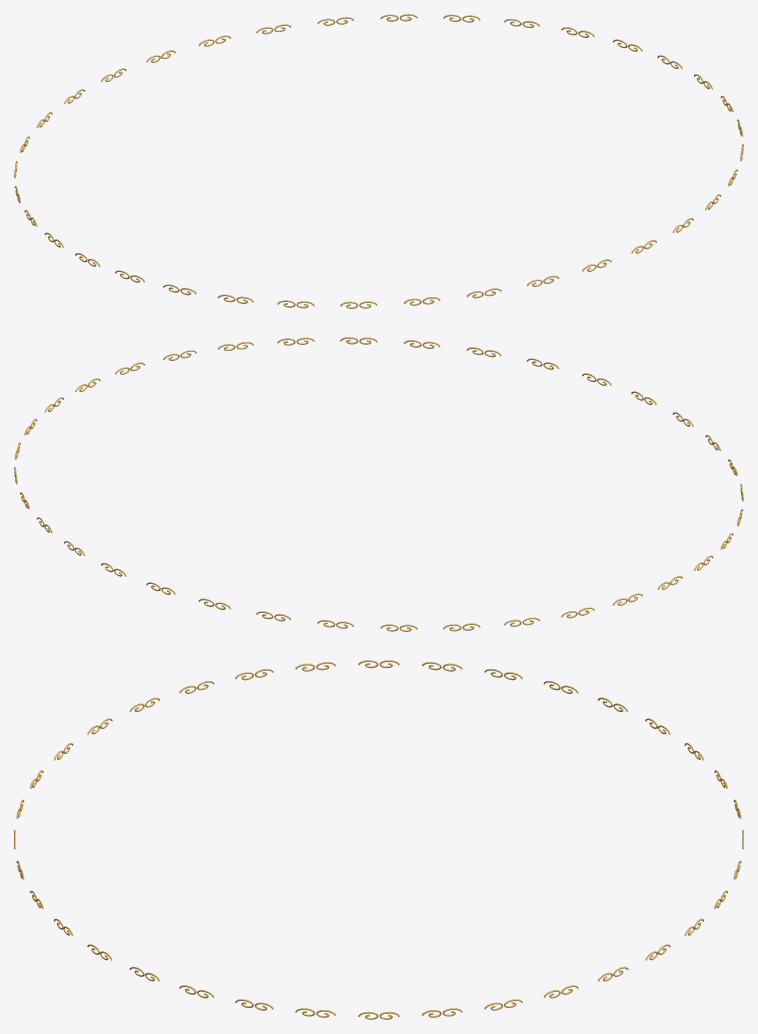
File: KRM_STATIC_006.fbx
3 renders of one model, top to bottom at view 1: azimuth 30°, elevation 25°; view 2: azimuth 150°, elevation 25°; view 3: azimuth 270°, elevation 25°, orthographic. The views are drawn at different scales.
Visible parts, largest first — view 1: KRM_STATIC_006; view 2: KRM_STATIC_006; view 3: KRM_STATIC_006.
Boxes of the visible parts, x1=… form: KRM_STATIC_006: x1=14, y1=14, x2=743, y2=308; KRM_STATIC_006: x1=14, y1=337, x2=743, y2=631; KRM_STATIC_006: x1=14, y1=660, x2=743, y2=1019.
Bounding box in the file's own units: 1930 × 19.44 × 1690.
Materials: 1 (1 with a texture image).
